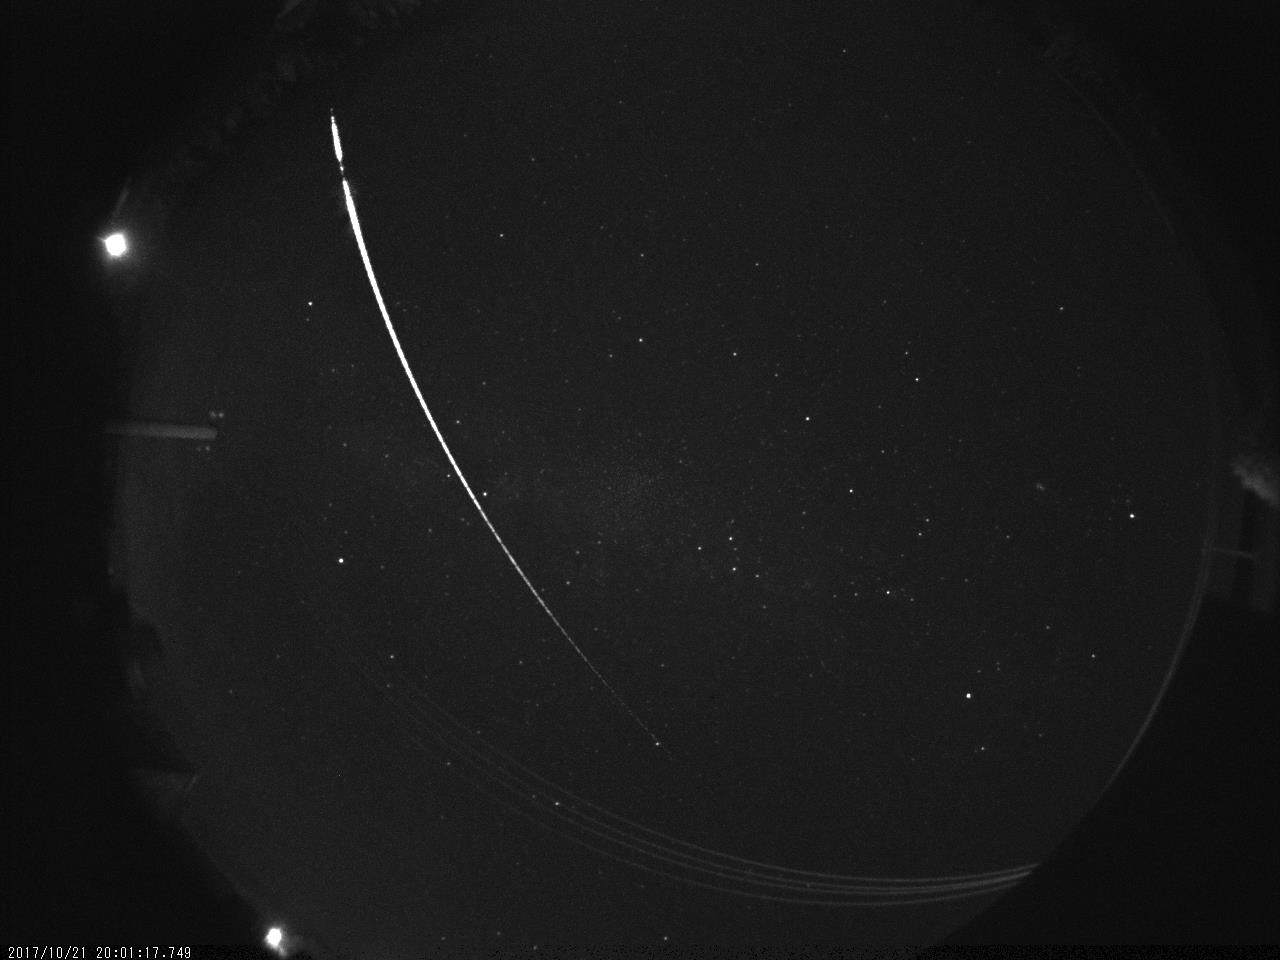meteor: (319, 111, 626, 702)
